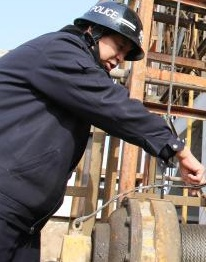gloves: (175, 171, 206, 232)
hard-hat: (74, 0, 145, 60)
